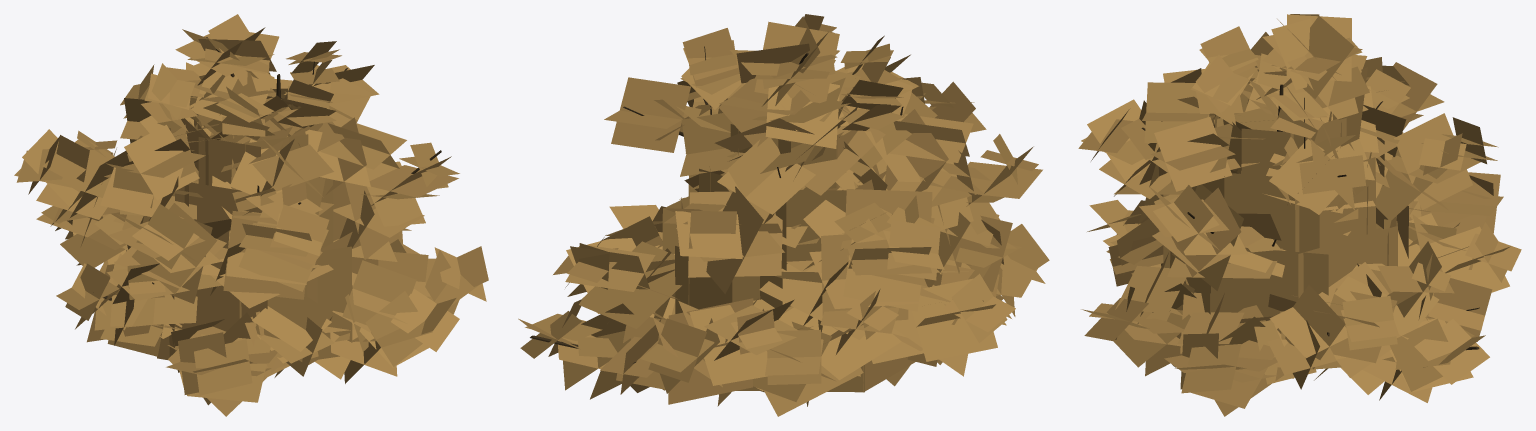
File: Bush 2 LOD 0.fbx
3 renders of one model, left to right at view 1: azimuth 30°, elevation 25°; view 2: azimuth 150°, elevation 25°; view 3: azimuth 270°, elevation 25°, orthographic. The views are drawn at different scales.
Parts seen in each view (by area): view 1: Bush_2_LOD_0; view 2: Bush_2_LOD_0; view 3: Bush_2_LOD_0.
Part boxes in pixels (x1=…): Bush_2_LOD_0: x1=14, y1=14, x2=488, y2=416; Bush_2_LOD_0: x1=518, y1=14, x2=1049, y2=416; Bush_2_LOD_0: x1=1078, y1=14, x2=1521, y2=416.
Bounding box in the file's own units: 5.56 × 4.45 × 5.51.
